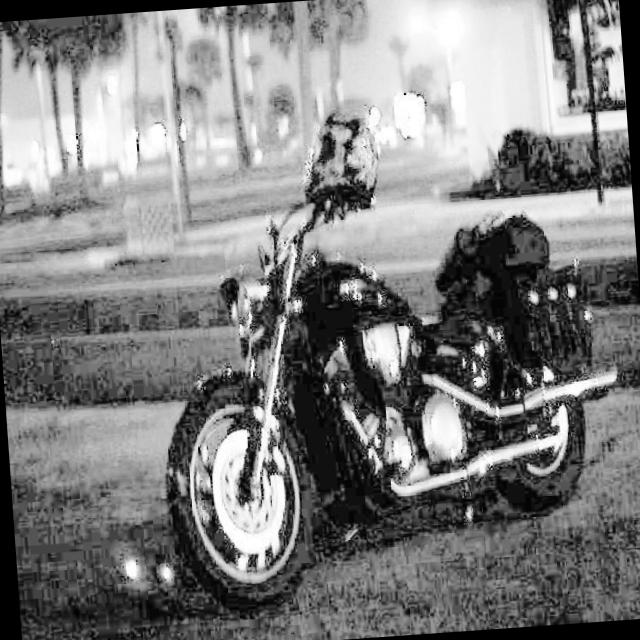Motorcycle: (133, 40, 640, 621)
